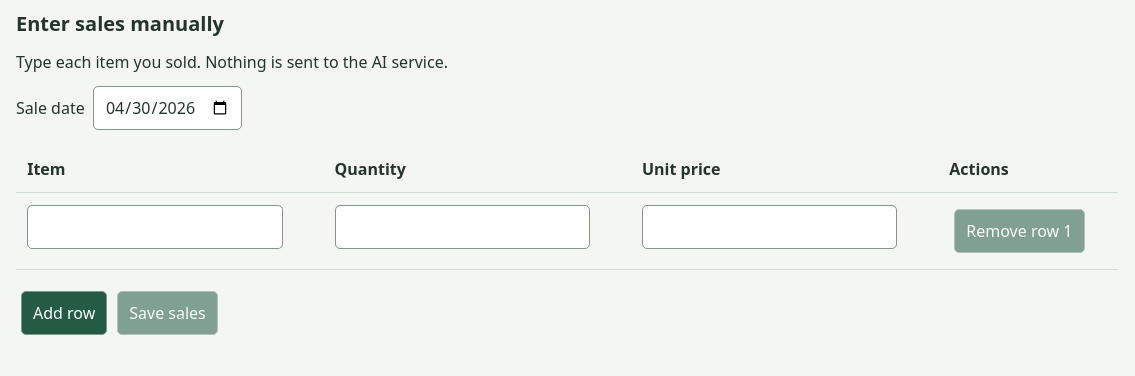
it: Standalone manual entry (FR-104) › blocks invalid unitPrice -1
Type "Bread" into the 1st field named "Row 1 Item" at (155, 227), box [27,205,283,249]
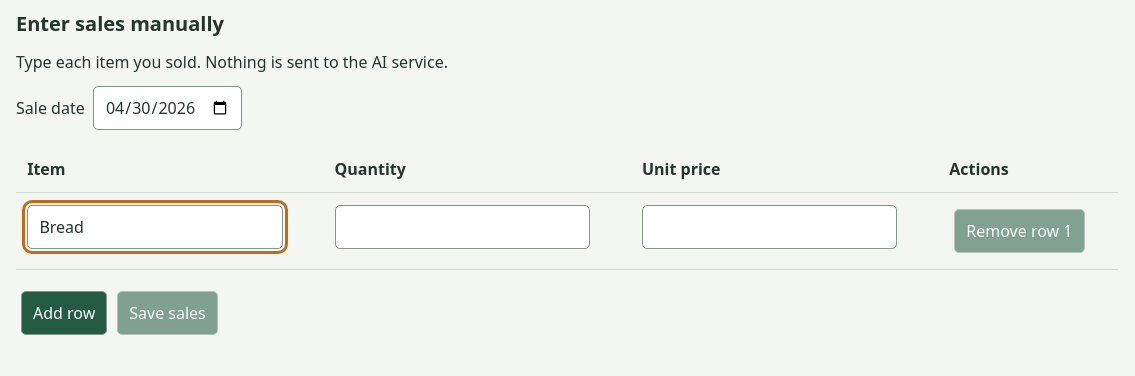
Type "1" into the 2nd field named "Row 1 Quantity" at (462, 227), box [335,205,590,249]
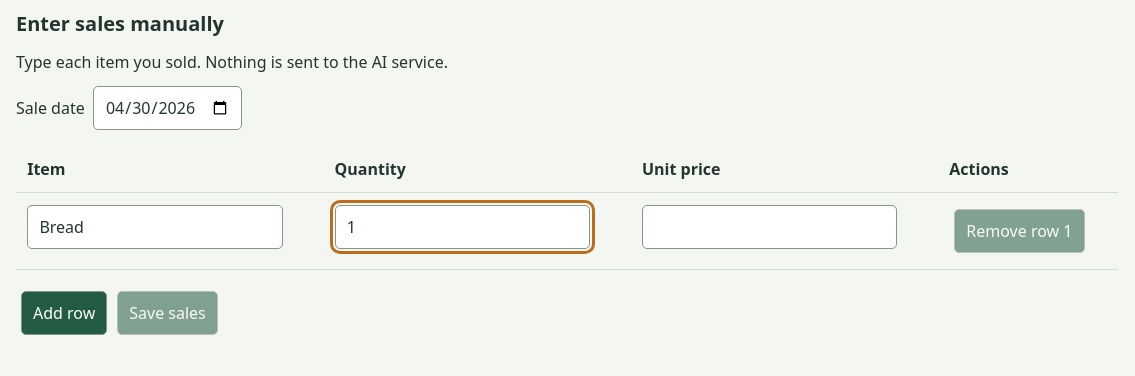
Type "-1" into the 3rd field named "Row 1 Unit price" at (770, 227), box [642,205,897,249]
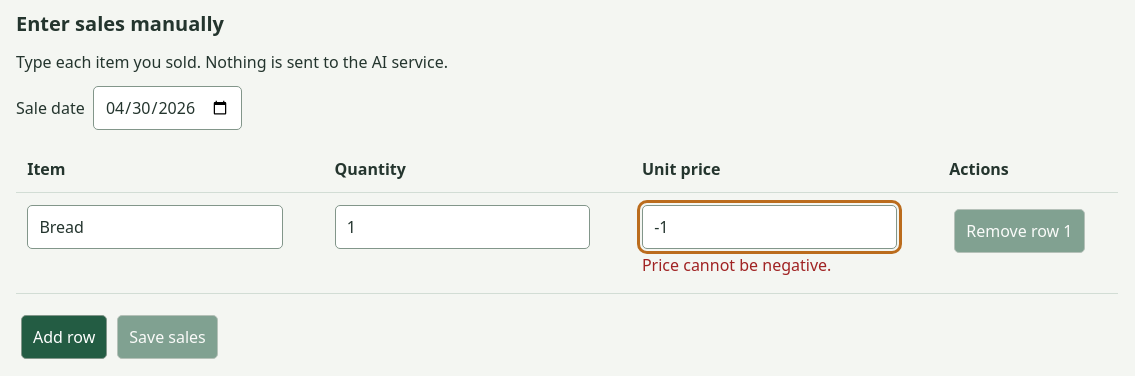
Expected: the button "Save sales" is disabled, [117,315,218,359]
Result: the text "Price cannot be negative." is shown at [642,254,831,276]
